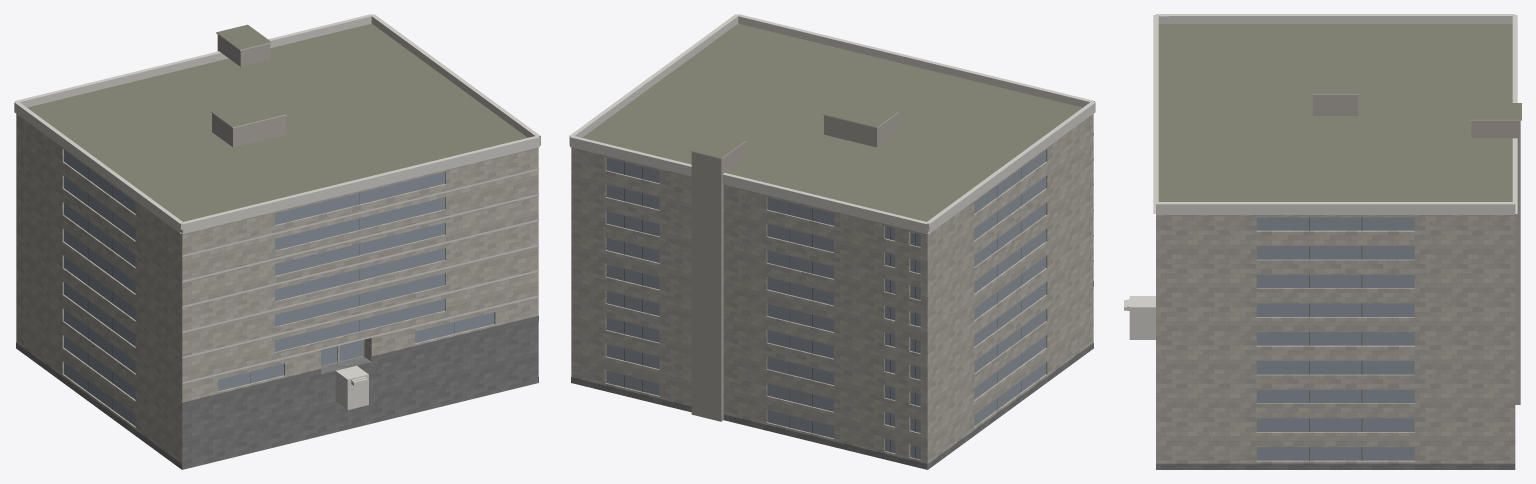
The picture shows the model from 3 angles, left to right: view 1: azimuth 30°, elevation 25°; view 2: azimuth 150°, elevation 25°; view 3: azimuth 270°, elevation 25°; orthographic projection. The views are drawn at different scales.
Visible parts, largest first — view 1: lawLibrary__wall, lawLibrary__roof, lawLibrary__base, lawLibrary__glass, lawLibrary__trim, lawLibrary__wall2, lawLibrary__entranceStair; view 2: lawLibrary__wall, lawLibrary__roof, lawLibrary__glass, lawLibrary__trim, lawLibrary__wall2, lawLibrary__base, lawLibrary__frame; view 3: lawLibrary__wall, lawLibrary__roof, lawLibrary__glass, lawLibrary__trim, lawLibrary__wall2, lawLibrary__base, lawLibrary__entranceStair.
Boxes of the visible parts, x1,y1,x2,y2 form: lawLibrary__wall: (16, 114, 538, 469); lawLibrary__roof: (27, 23, 533, 469); lawLibrary__base: (16, 315, 538, 469); lawLibrary__glass: (64, 150, 494, 426); lawLibrary__trim: (14, 14, 540, 383); lawLibrary__wall2: (212, 34, 285, 147); lawLibrary__entranceStair: (335, 365, 368, 409); lawLibrary__wall: (571, 114, 1093, 469); lawLibrary__roof: (582, 23, 1082, 230); lawLibrary__glass: (606, 150, 1045, 459); lawLibrary__trim: (569, 14, 1095, 261); lawLibrary__wall2: (691, 113, 897, 421); lawLibrary__base: (571, 281, 1093, 469); lawLibrary__frame: (624, 162, 1021, 458); lawLibrary__wall: (1156, 215, 1515, 463); lawLibrary__roof: (1158, 24, 1521, 201); lawLibrary__glass: (1256, 217, 1414, 460); lawLibrary__trim: (1153, 14, 1521, 214); lawLibrary__wall2: (1312, 95, 1520, 404); lawLibrary__base: (1156, 463, 1515, 469); lawLibrary__entranceStair: (1124, 296, 1155, 339).
Size of the model in its own units: 51.11 by 35.81 by 45.15.
9 materials, 2 textured.
